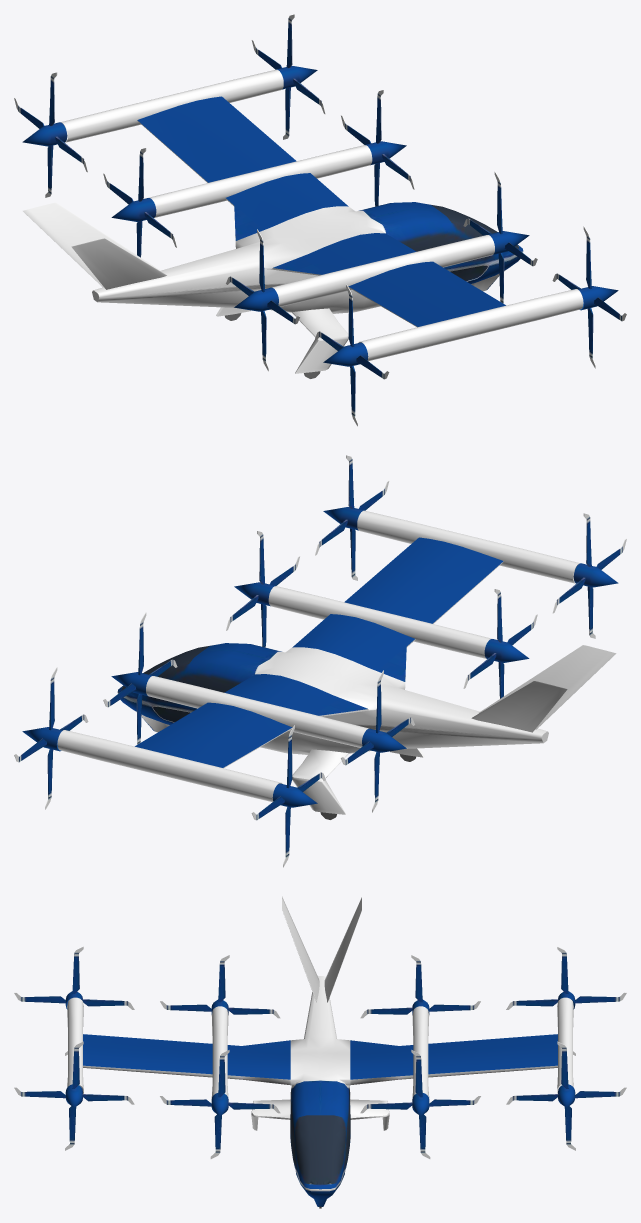
The model's file is evtol.lod0.glb.
3 views of the same model, one above another, from view 1: azimuth 30°, elevation 25°; view 2: azimuth 150°, elevation 25°; view 3: azimuth 270°, elevation 25° (orthographic). The views are drawn at different scales.
Visible parts, largest first — view 1: eVTOL; view 2: eVTOL; view 3: eVTOL.
Boxes of the visible parts, x1=… form: eVTOL: x1=14, y1=14, x2=626, y2=426; eVTOL: x1=14, y1=455, x2=626, y2=867; eVTOL: x1=14, y1=896, x2=626, y2=1208.
Bounding box in the file's own units: 8.67 × 3.32 × 12.
1 material, 1 textured.
